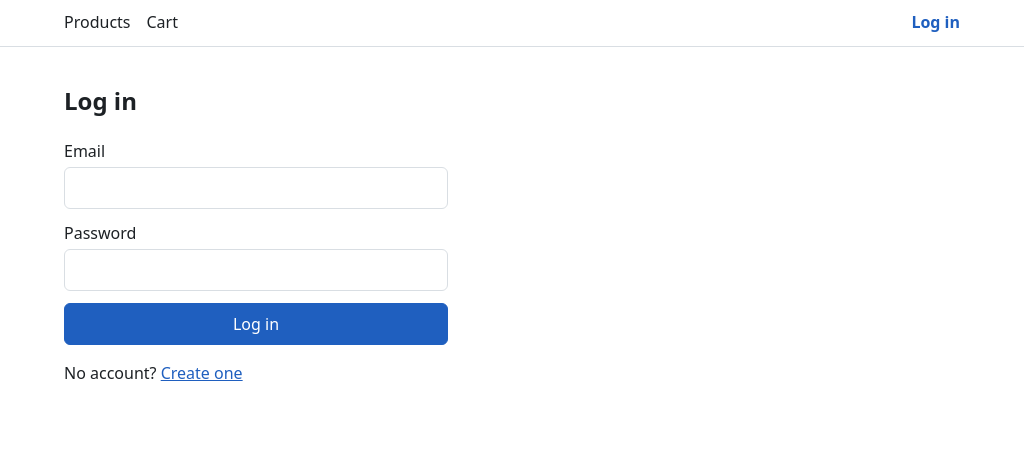
logging in › says the same thing for a wrong password and an unknown email
Type "ada@example.com" into the field labelled "Email" at (256, 188), box 64,167 -> 448,209
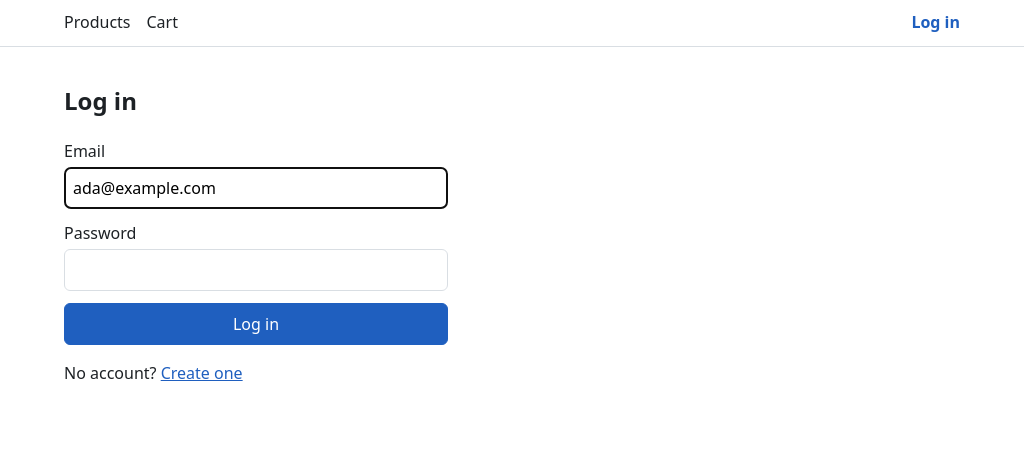
Type "wrong password!" into the password field labelled "Password" at (256, 270), box 64,249 -> 448,291
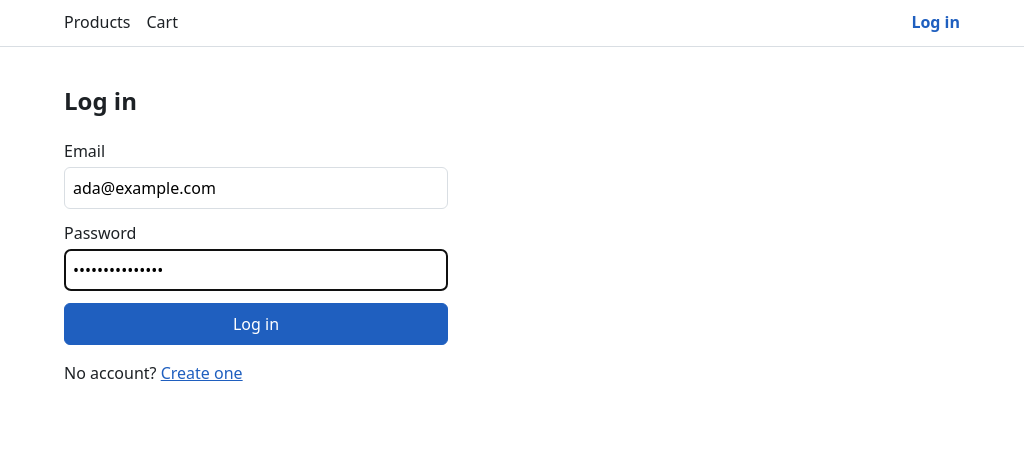
Click the button "Log in" at (256, 324), box 64,303 -> 448,345
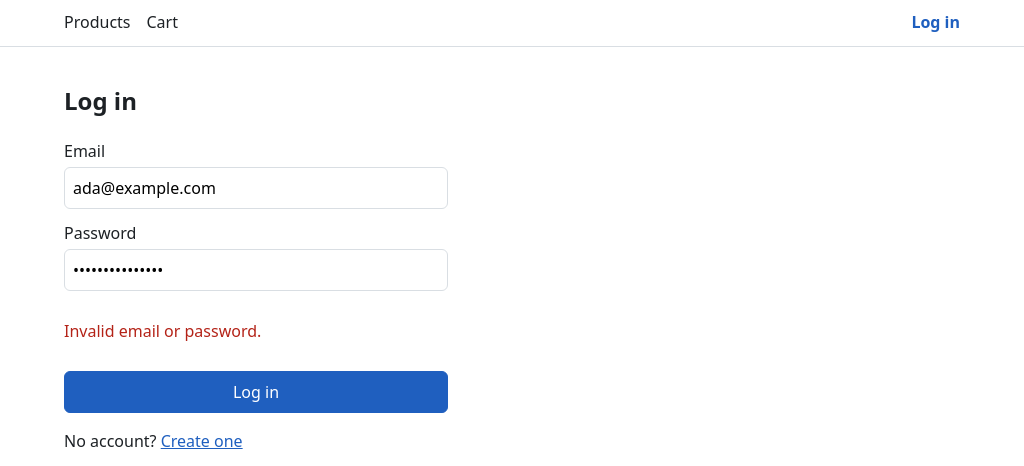
Check: the message reads "Invalid email or password.", box 64,320 -> 261,342
